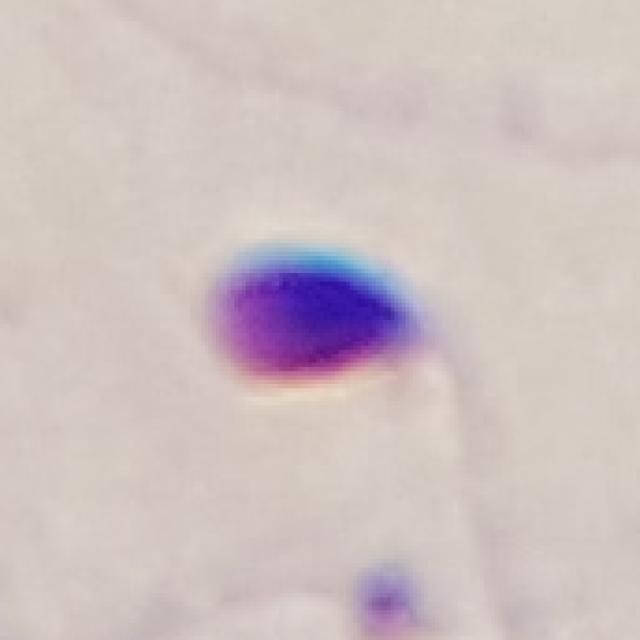normal sperm: (188, 231, 508, 457)
